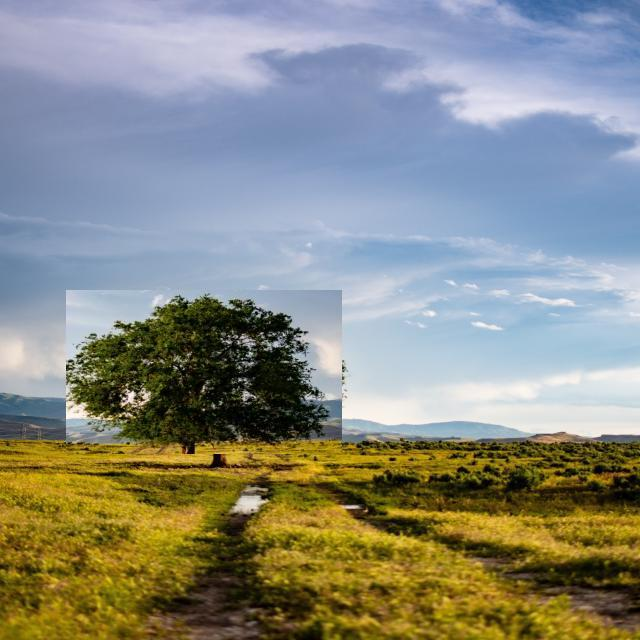tree: (66, 290, 342, 454)
